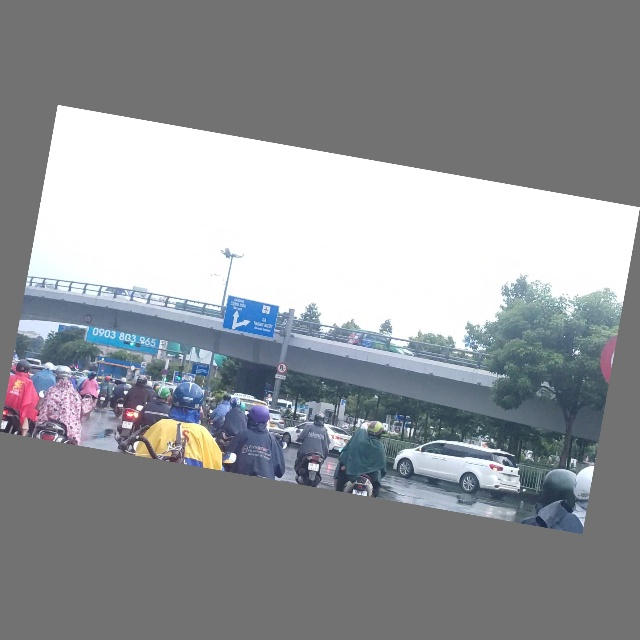P.124b1: (276, 363, 288, 376)
